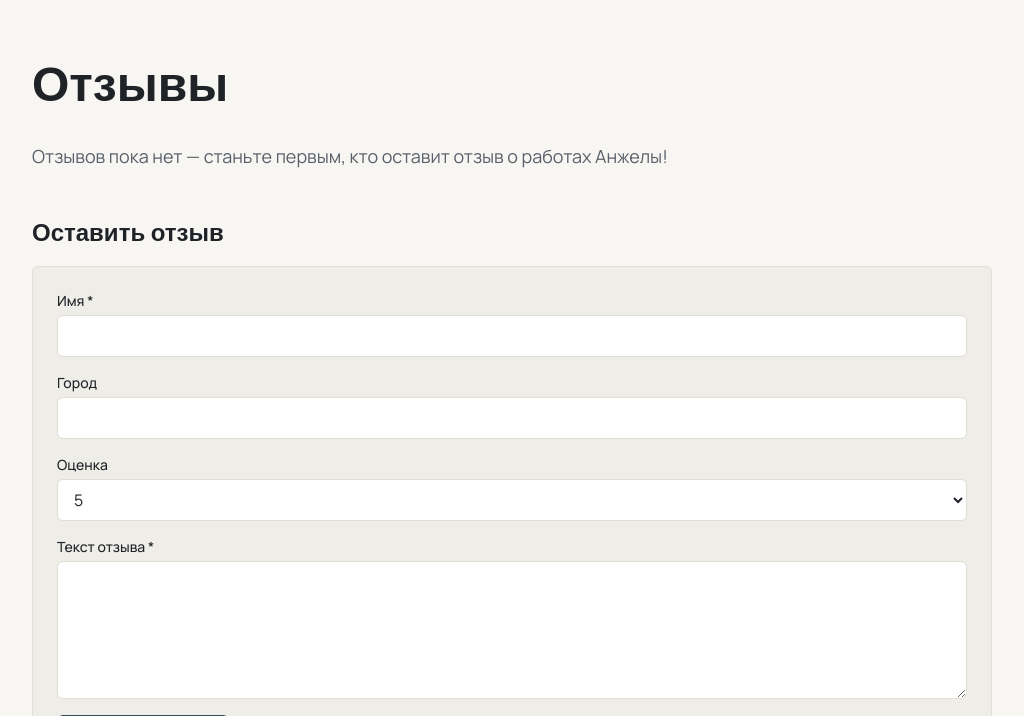
Scenario: @US1-FE5 review form boundaries › shows an error and keeps the input when the API fails
Type "Имя" into the field labelled "Имя *". click: x=512, y=336
box: [57,315,967,357]
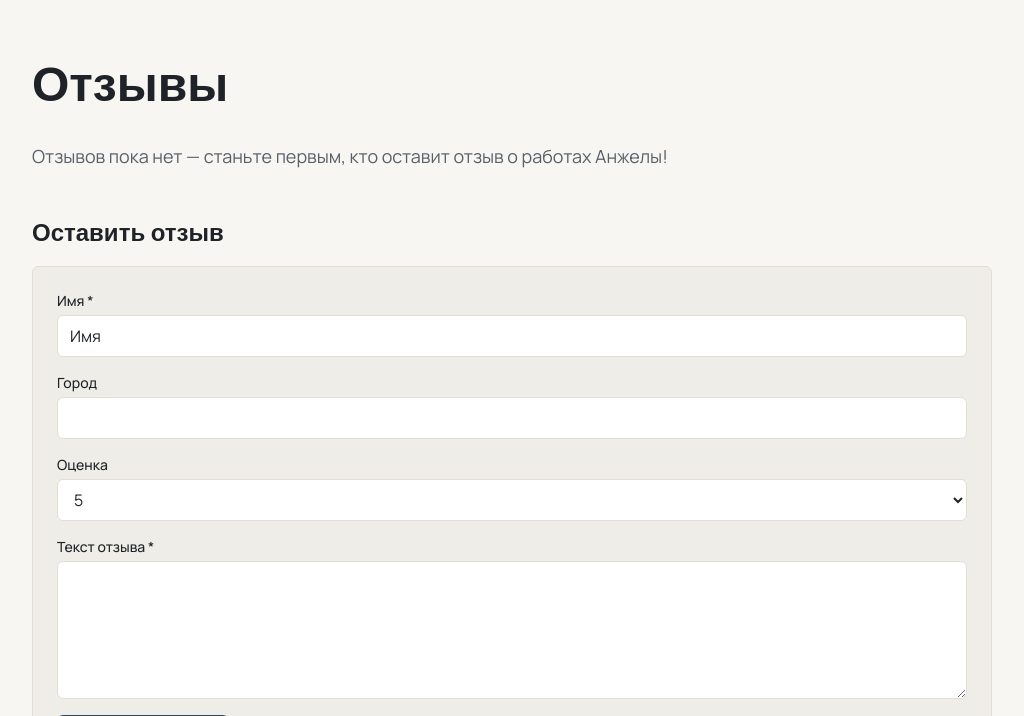
Type "Текст" into the text box labelled "Текст отзыва *". click: x=512, y=630
box: [57,561,967,699]
(page scrolled)
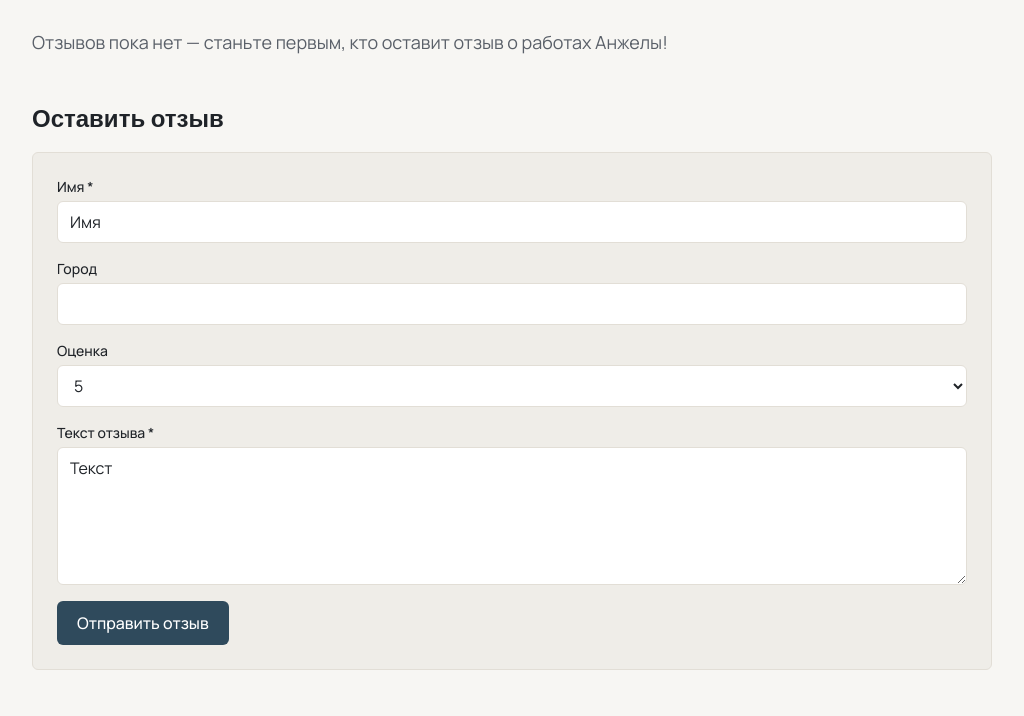
Click the button "Отправить отзыв". click: x=143, y=623
box: [57,601,229,645]
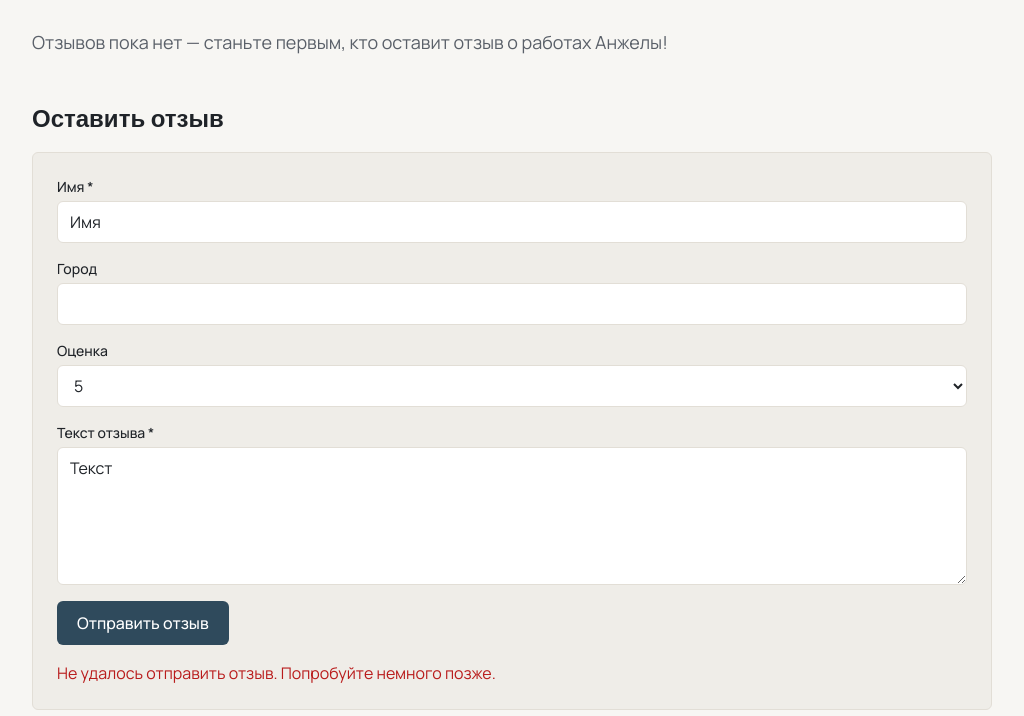
Expected: the message shows "Не удалось отправить отзыв", [57,662,496,684]
